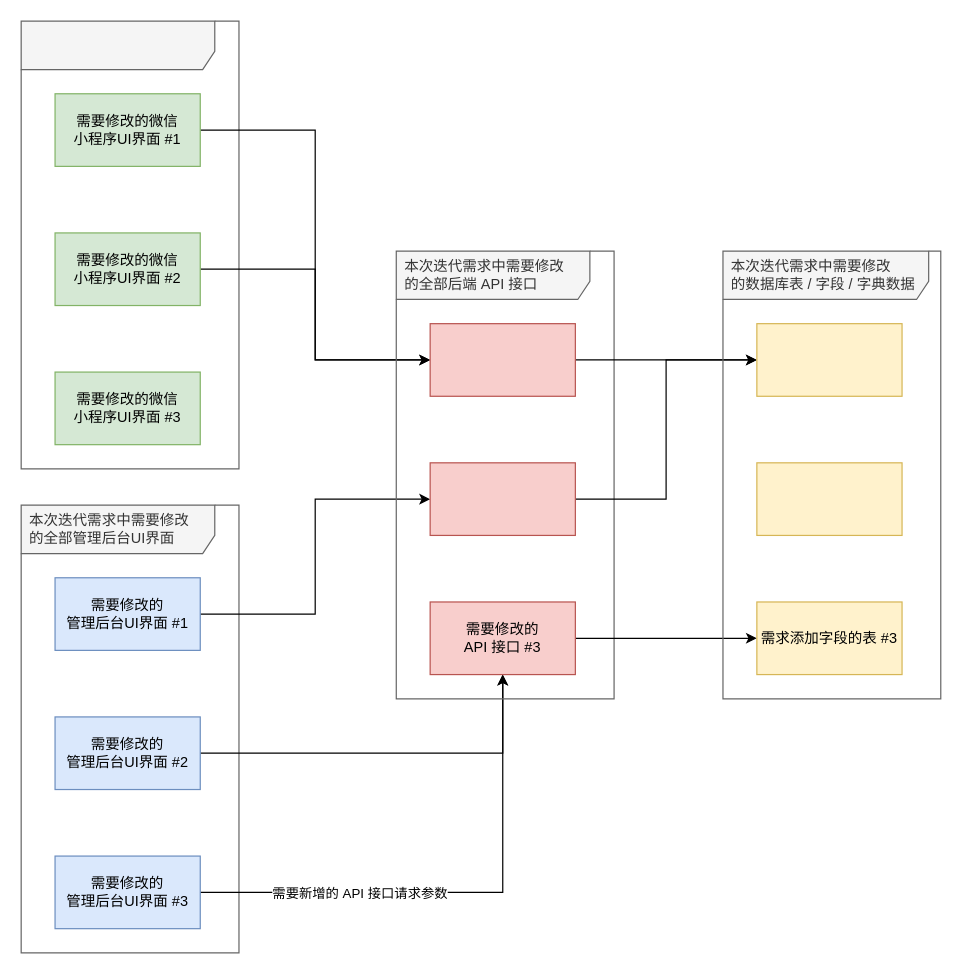
The diagram is 962 pixels wide and 974 high, and some of its shapes have lost their labels. Here are the shapes that lost their labels. From the top down, the box of each, then its label:
(20, 20, 239, 469): 本次迭代需求中需要修改 的全部微信 小程序UI界面
(429, 322, 575, 396): 需要修改的 API 接口 #1
(756, 322, 902, 396): 需要新增的表 #1
(429, 462, 575, 535): 需要修改的 API 接口 #2
(756, 462, 902, 535): 需要添加字段的表 #2
